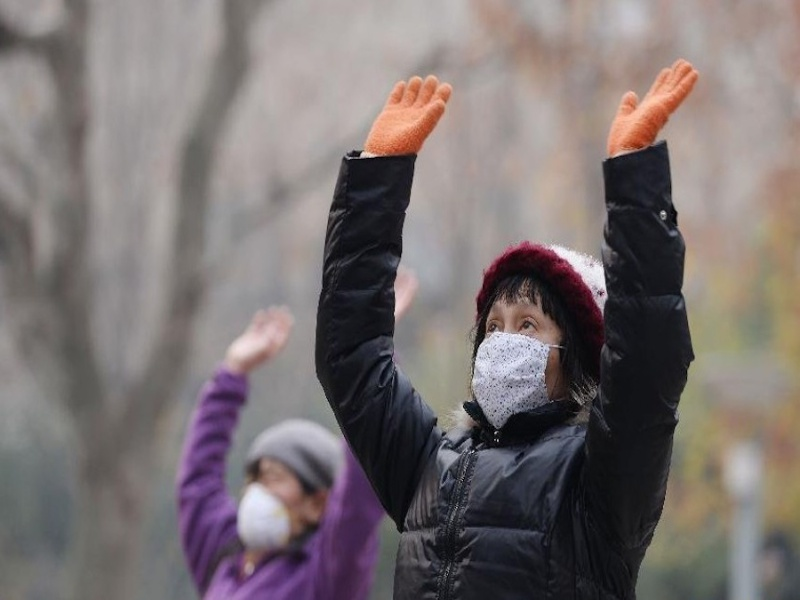mask: (460, 226, 610, 434), (235, 413, 346, 555)
